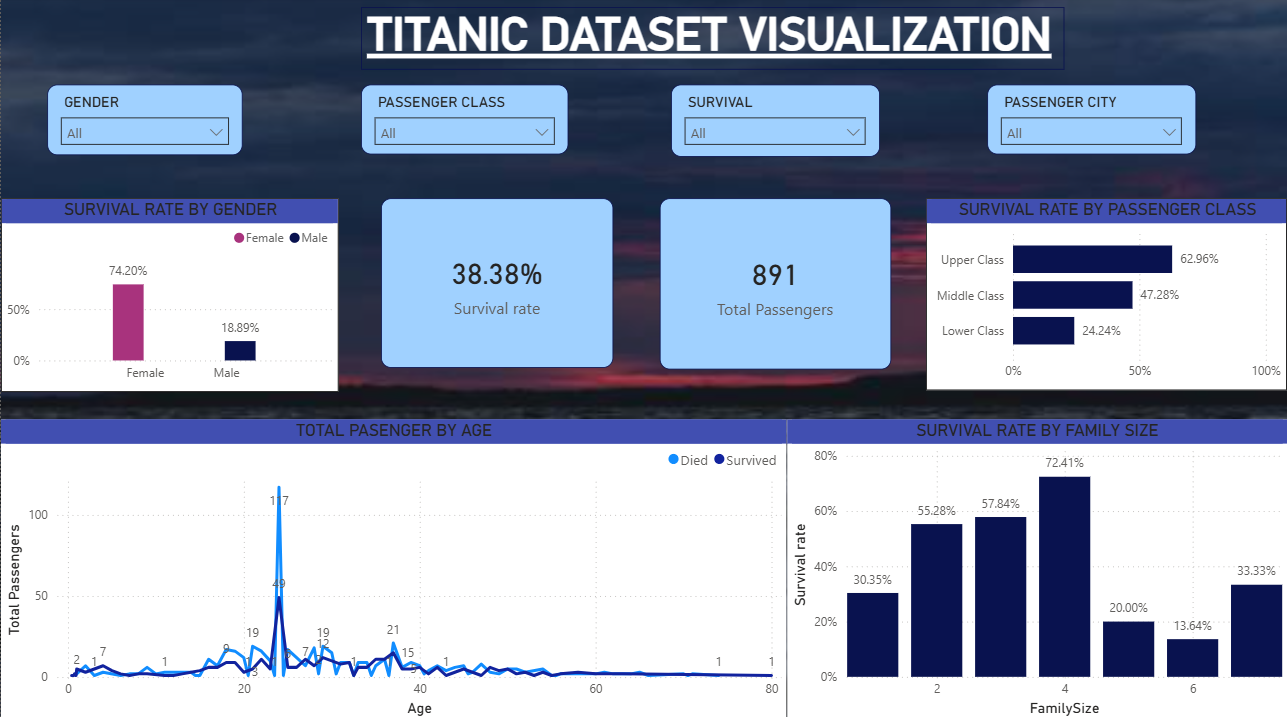

What the dashboard file says about the page in this screenshot:
{"tool":"powerbi","page":{"name":"Page 1","canvas":[1280,720],"ordinal":0},"visuals":[{"type":"card","fields":{"Values":["titanic_cleaned_data.Total Passengers"]},"box":[655.6,200.3,230.1,170.4],"z":0},{"type":"card","fields":{"Values":["titanic_cleaned_data.Survival rate"]},"box":[378.2,200.3,231.4,169.2],"z":1000},{"type":"clusteredColumnChart","title":"SURVIVAL RATE BY  GENDER","fields":{"Category":["titanic_cleaned_data.Sex"],"Y":["titanic_cleaned_data.Survival rate"],"Series":["titanic_cleaned_data.Sex"]},"box":[0,200.3,335.9,192.8],"z":2000},{"type":"clusteredBarChart","title":"SURVIVAL RATE BY PASSENGER CLASS","fields":{"Category":["titanic_cleaned_data.Pclass"],"Y":["titanic_cleaned_data.Survival rate"]},"box":[920.5,200.3,359.5,191.6],"z":3000},{"type":"lineChart","title":"TOTAL PASENGER BY AGE","fields":{"Category":["titanic_cleaned_data.Age"],"Y":["titanic_cleaned_data.Total Passengers"],"Series":["titanic_cleaned_data.Survived"]},"box":[0,419.8,782,300.1],"z":4000},{"type":"clusteredColumnChart","title":"SURVIVAL RATE BY FAMILY SIZE","fields":{"Category":["titanic_cleaned_data.FamilySize"],"Y":["titanic_cleaned_data.Survival rate"]},"box":[782,419.8,497.8,300.1],"z":5000},{"type":"slicer","fields":{"Values":["titanic_cleaned_data.Pclass"]},"box":[358.3,87.1,206.5,69.7],"z":6000},{"type":"slicer","fields":{"Values":["titanic_cleaned_data.Embarked"]},"box":[981.5,87.1,207.7,69.7],"z":7000},{"type":"slicer","fields":{"Values":["titanic_cleaned_data.Sex"]},"box":[46.2,86.6,194.8,70.7],"z":8000},{"type":"slicer","fields":{"Values":["titanic_cleaned_data.Survived"]},"box":[666.8,87.1,207.7,72.1],"z":9000},{"type":"textbox","title":"TITANIC DATASET VISUALIZATION","box":[357.8,10.1,699.7,62],"z":10000}]}

Visuals, with their boxes in screenshot pixels (x1, y1, x2, y2), scaled from the page's 1280x720 canvas onto the 1287x717 screenshot:
card - titanic_cleaned_data.Total Passengers: pyautogui.locateOnScreen(659, 199, 891, 369)
card - titanic_cleaned_data.Survival rate: pyautogui.locateOnScreen(380, 199, 613, 368)
"SURVIVAL RATE BY  GENDER" clusteredColumnChart: pyautogui.locateOnScreen(0, 199, 338, 391)
"SURVIVAL RATE BY PASSENGER CLASS" clusteredBarChart: pyautogui.locateOnScreen(926, 199, 1286, 390)
"TOTAL PASENGER BY AGE" lineChart: pyautogui.locateOnScreen(0, 418, 786, 716)
"SURVIVAL RATE BY FAMILY SIZE" clusteredColumnChart: pyautogui.locateOnScreen(786, 418, 1286, 716)
slicer - titanic_cleaned_data.Pclass: pyautogui.locateOnScreen(360, 87, 568, 156)
slicer - titanic_cleaned_data.Embarked: pyautogui.locateOnScreen(987, 87, 1196, 156)
slicer - titanic_cleaned_data.Sex: pyautogui.locateOnScreen(46, 86, 242, 157)
slicer - titanic_cleaned_data.Survived: pyautogui.locateOnScreen(670, 87, 879, 159)
"TITANIC DATASET VISUALIZATION" textbox: pyautogui.locateOnScreen(360, 10, 1063, 72)
